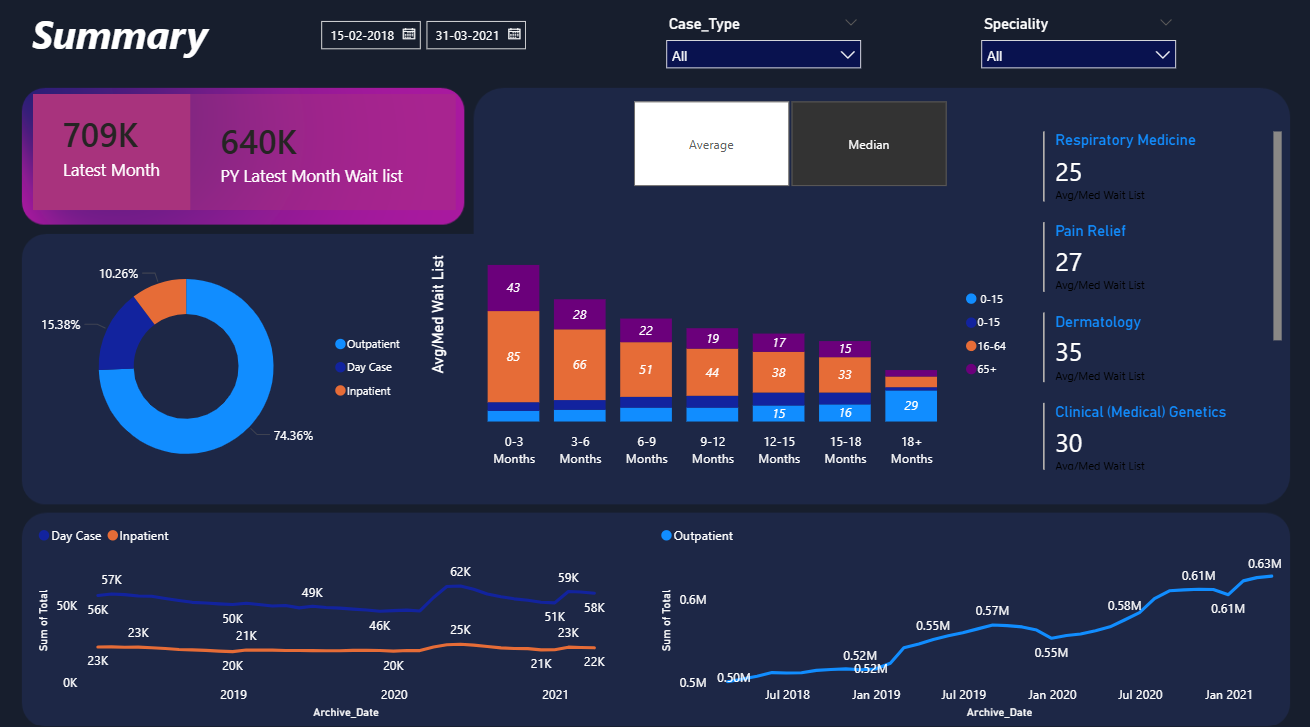

The page's visual inventory and layout, read from the dashboard file:
{"tool":"powerbi","page":{"name":"Summary","canvas":[1280,720],"ordinal":0},"visuals":[{"type":"cardVisual","fields":{"Data":["Append1.PY Latest Month Wait list"]},"box":[190.7,96,256,112],"z":0},{"type":"cardVisual","fields":{"Data":["Append1.Latest Month"]},"box":[38.6,96.5,152,112.2],"z":1000},{"type":"slicer","fields":{"Values":["Calci Method.CAli Method"]},"box":[592,96,352,96],"z":2000},{"type":"donutChart","fields":{"Category":["Append1.Case_Type"],"Y":["Append1.Avg/Med Wait List"]},"box":[38.7,232,368,256],"z":3000},{"type":"columnChart","fields":{"Y":["Append1.Avg/Med Wait List"],"Series":["Append1.Age_Profile"],"Category":["Append1.Time_Bands"]},"box":[416,192,576,272],"z":4000},{"type":"multiRowCard","fields":{"Values":["Mapping_Specialty.Specialty","Append1.Avg/Med Wait List"]},"box":[1008,128,240,336],"z":5000},{"type":"lineChart","fields":{"Category":["Append1.Archive_Date"],"Y":["Sum(Append1.Total)"],"Series":["Append1.Case_Type"]},"box":[38.7,502.7,560,201.3],"z":6000},{"type":"lineChart","fields":{"Category":["Append1.Archive_Date"],"Y":["Sum(Append1.Total)"],"Series":["Append1.Case_Type"]},"box":[640,502.7,624,201.3],"z":7000},{"type":"slicer","fields":{"Values":["Append1.Archive_Date"]},"box":[304,16,272,48],"z":8000},{"type":"slicer","fields":{"Values":["Append1.Case_Type"]},"box":[640,16,208,64],"z":9000},{"type":"slicer","fields":{"Values":["Append1.Speciality"]},"box":[944,16,208,64],"z":10000},{"type":"textbox","box":[32,8,240,64],"z":11000}]}

Visuals, with their boxes in screenshot pixels (x1, y1, x2, y2), scaled from the page's 1280x720 canvas onto the 1310x727 screenshot:
cardVisual - Append1.PY Latest Month Wait list: <box>195,97,457,210</box>
cardVisual - Append1.Latest Month: <box>40,97,195,211</box>
slicer - Calci Method.CAli Method: <box>606,97,966,194</box>
donutChart - Append1.Case_Type x Append1.Avg/Med Wait List: <box>40,234,416,493</box>
columnChart - Append1.Avg/Med Wait List x Append1.Age_Profile: <box>426,194,1015,469</box>
multiRowCard - Mapping_Specialty.Specialty x Append1.Avg/Med Wait List: <box>1032,129,1277,469</box>
lineChart - Append1.Archive_Date x Sum(Append1.Total): <box>40,508,613,711</box>
lineChart - Append1.Archive_Date x Sum(Append1.Total): <box>655,508,1294,711</box>
slicer - Append1.Archive_Date: <box>311,16,590,65</box>
slicer - Append1.Case_Type: <box>655,16,868,81</box>
slicer - Append1.Speciality: <box>966,16,1179,81</box>
textbox: <box>33,8,278,73</box>
